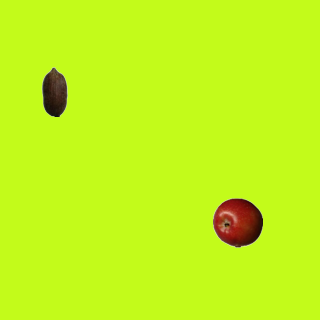Apple Braeburn: (212, 197, 262, 247)
Nut Pecan: (29, 66, 79, 116)
